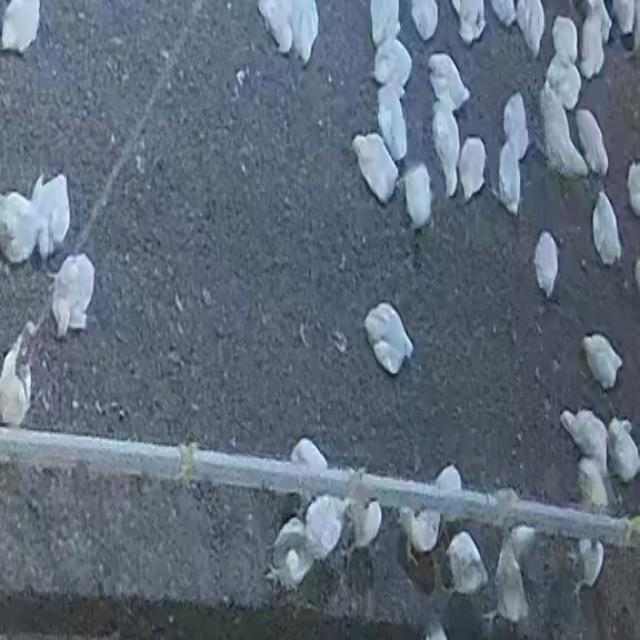chicken: (539, 89, 588, 178), (488, 532, 531, 628), (0, 324, 37, 425), (50, 254, 95, 337), (363, 302, 412, 374), (31, 173, 72, 259), (348, 136, 397, 205), (0, 190, 44, 266), (301, 495, 347, 564), (428, 464, 463, 547), (273, 518, 312, 592), (445, 530, 488, 596), (376, 82, 410, 162), (431, 104, 461, 194), (590, 189, 623, 266), (582, 332, 624, 390), (428, 52, 470, 110), (606, 416, 640, 484), (577, 4, 608, 78), (570, 534, 604, 598), (2, 0, 39, 58), (563, 409, 607, 457), (346, 497, 383, 554), (546, 52, 582, 110), (402, 163, 434, 228), (373, 36, 413, 88), (577, 108, 610, 170), (496, 136, 522, 214), (502, 93, 530, 165), (457, 137, 487, 202), (258, 0, 294, 50), (398, 509, 437, 555), (533, 230, 559, 298), (576, 458, 610, 509), (294, 0, 320, 66), (514, 0, 545, 53), (449, 0, 485, 43), (368, 0, 401, 46), (550, 15, 579, 67), (290, 437, 328, 475), (410, 0, 439, 40), (608, 0, 636, 39), (625, 161, 640, 216)
